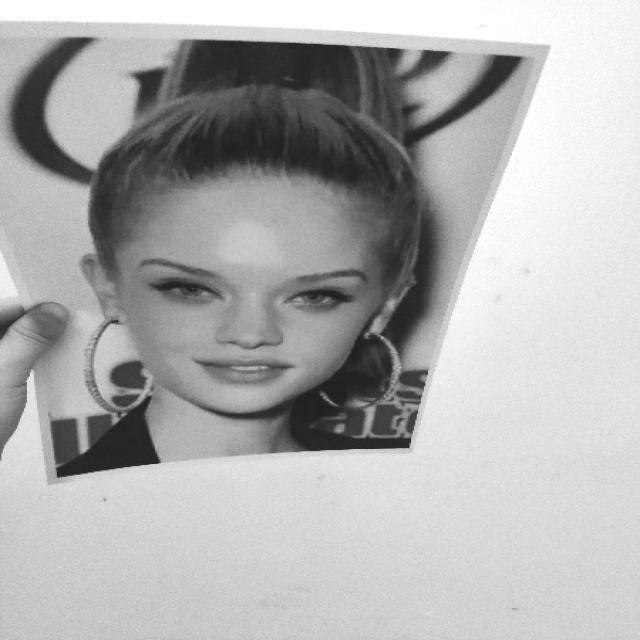fake: (92, 86, 428, 424)
